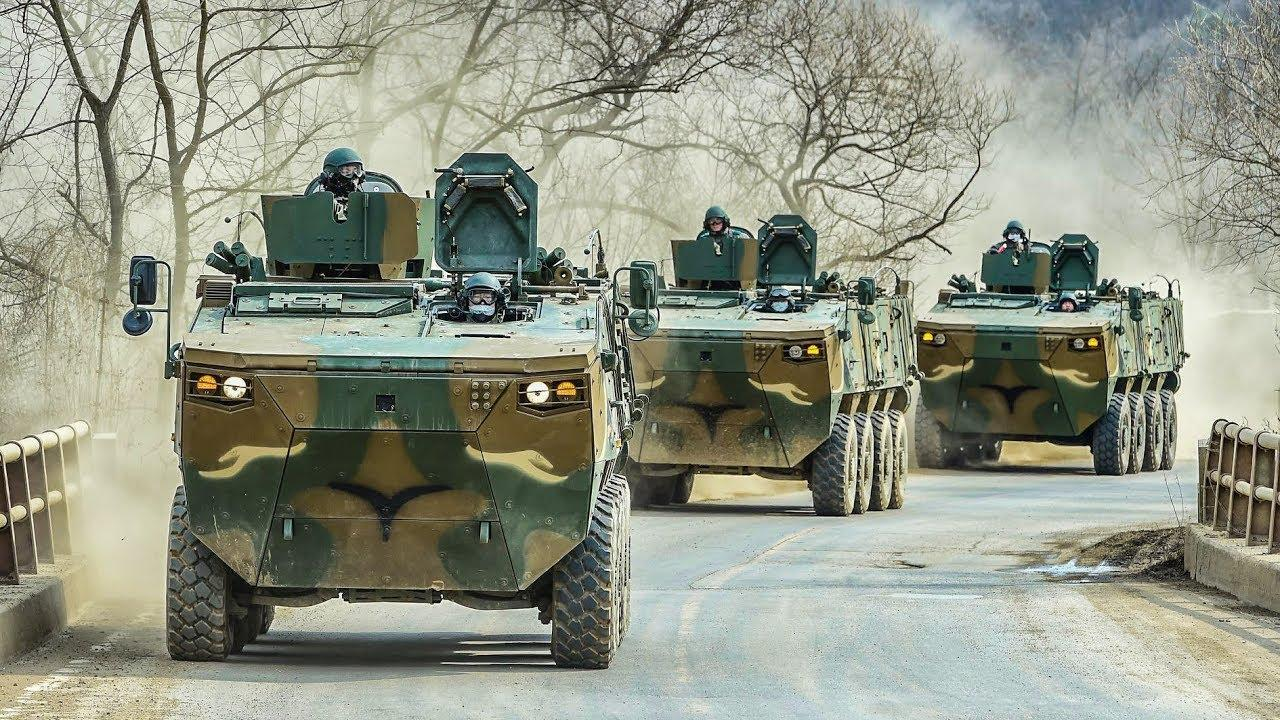MIL_IFV: (127, 151, 660, 666), (622, 213, 913, 517), (909, 227, 1192, 475)
